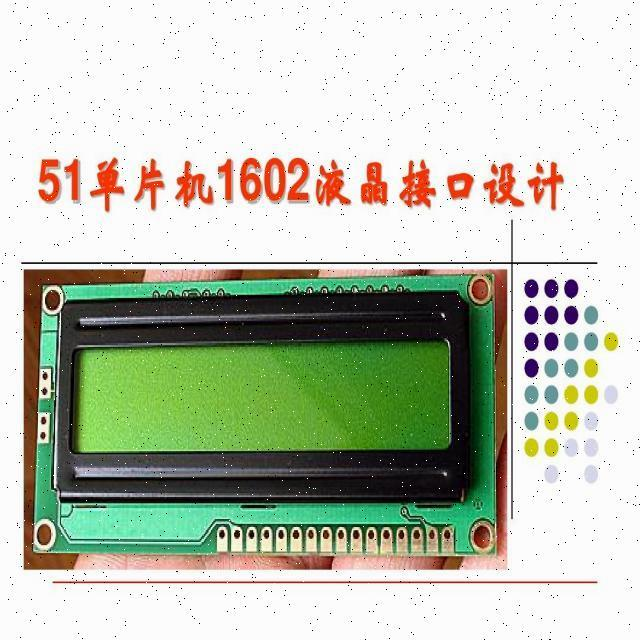lcd: (27, 267, 503, 561)
